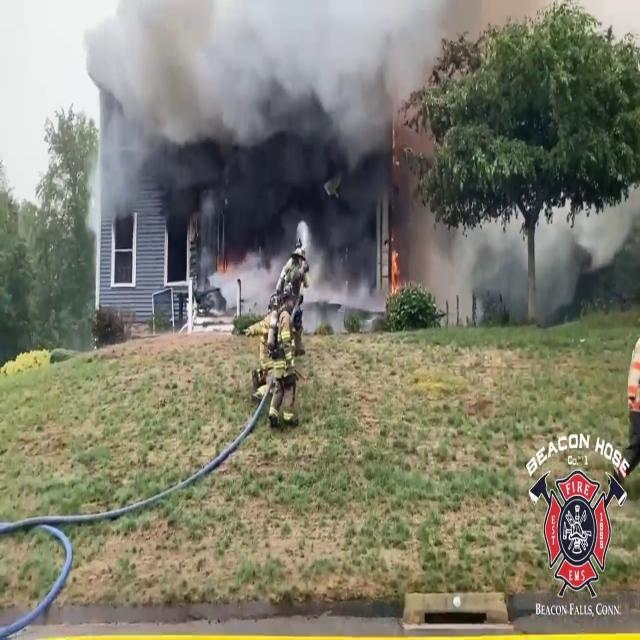Fire: (386, 227, 404, 305)
Smoke: (83, 0, 430, 268), (416, 192, 582, 326)
